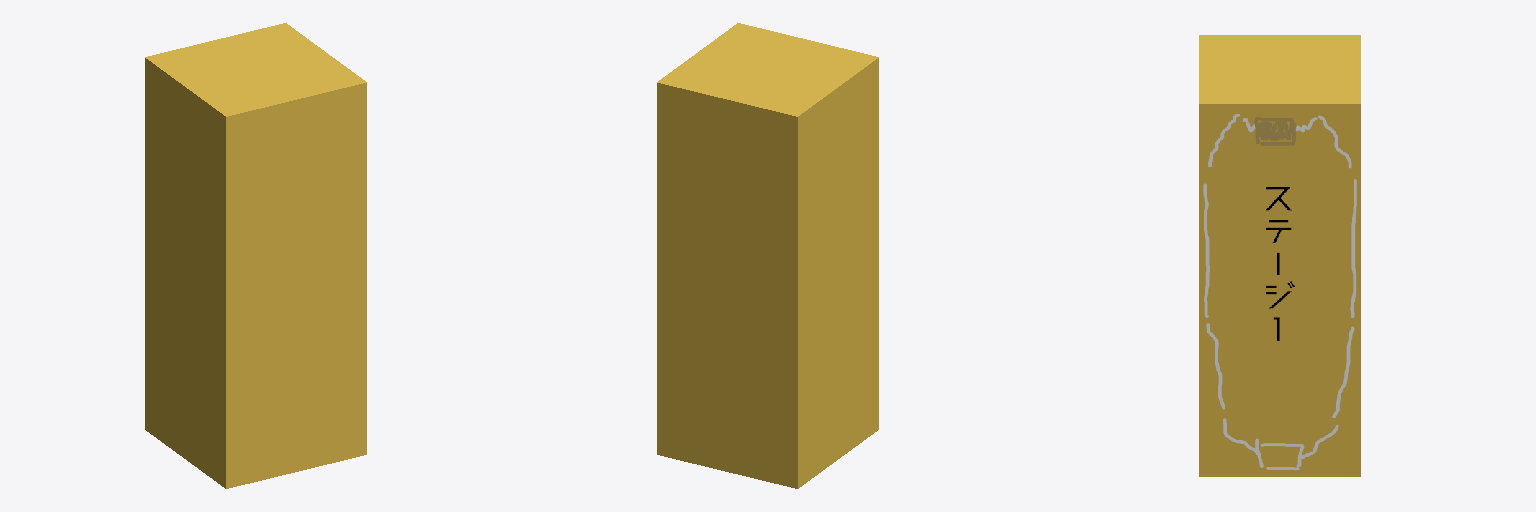
3 renders of one model, left to right at view 1: azimuth 30°, elevation 25°; view 2: azimuth 150°, elevation 25°; view 3: azimuth 270°, elevation 25°, orthographic.
Parts seen in each view (by area): view 1: Cube; view 2: Cube; view 3: Cube.
Boxes of the visible parts, x1,y1,x2,y2 form: Cube: [145, 23, 366, 488]; Cube: [657, 23, 878, 488]; Cube: [1199, 35, 1360, 476].
Size of the model in its own units: 2 by 5.04 by 2.
1 materials, 1 textured.